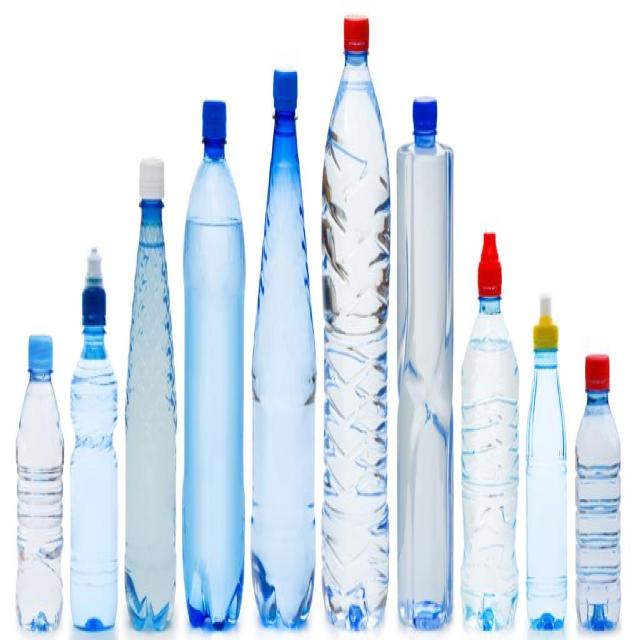bottle: (318, 0, 393, 636), (249, 64, 318, 640), (179, 96, 246, 626), (394, 94, 459, 636), (123, 151, 178, 640), (461, 230, 523, 634), (69, 243, 120, 630), (522, 288, 574, 634), (12, 325, 67, 639), (574, 346, 626, 638)
